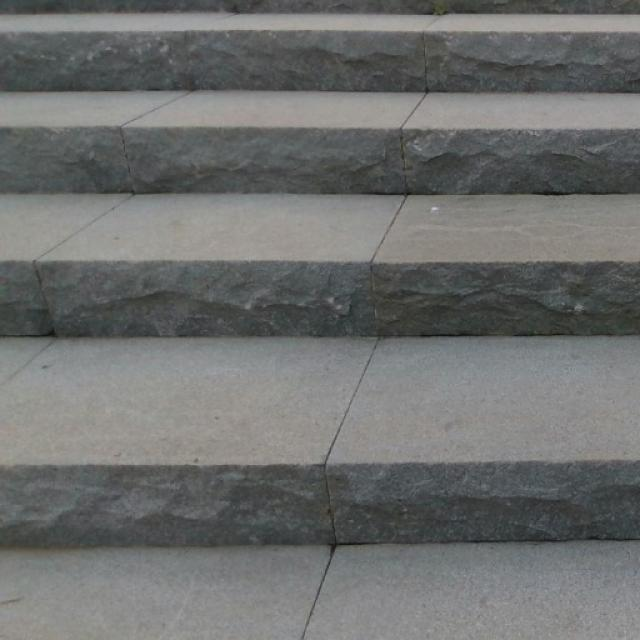Stairs: (0, 1, 639, 548)
